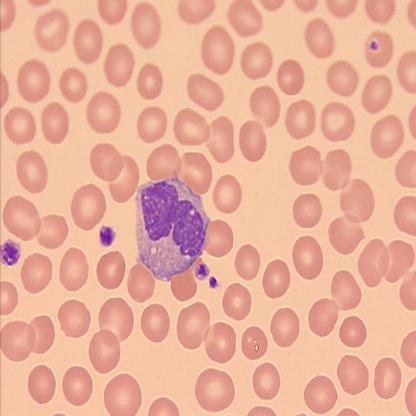Monocyte: (132, 170, 212, 286)
